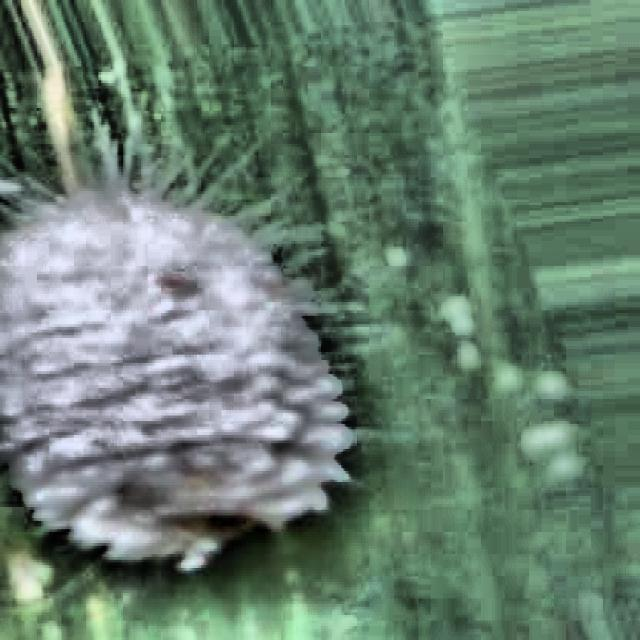Mealy-bug: (0, 169, 355, 584)
